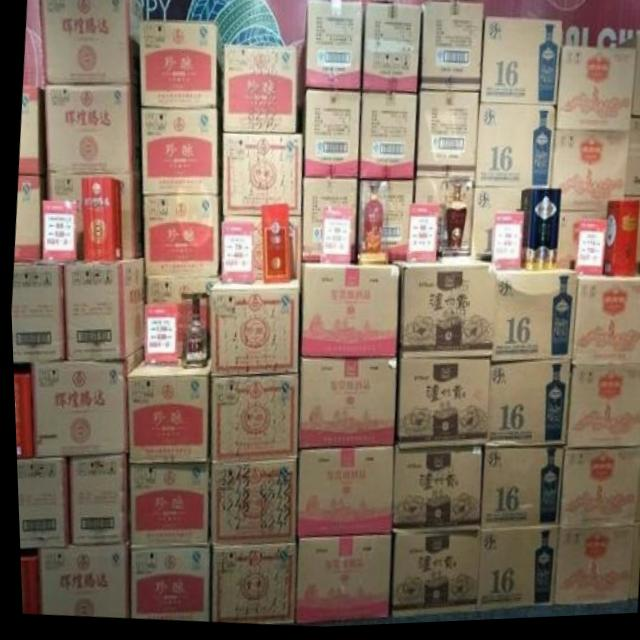box: (29, 348, 140, 458), (392, 262, 494, 362), (297, 264, 397, 361), (294, 359, 394, 452), (39, 0, 143, 88), (206, 280, 298, 378), (291, 450, 390, 540), (43, 84, 140, 175), (289, 537, 388, 626), (59, 257, 143, 360), (392, 361, 487, 450), (123, 365, 207, 464), (384, 529, 475, 619), (488, 274, 576, 366), (206, 376, 296, 464), (388, 446, 478, 533), (205, 460, 294, 546), (478, 20, 561, 111), (481, 365, 568, 451), (205, 544, 293, 626), (471, 105, 554, 191), (548, 529, 637, 609), (472, 530, 555, 615), (554, 50, 636, 136), (221, 46, 300, 135), (475, 451, 561, 531), (562, 367, 640, 455), (124, 464, 206, 547), (546, 135, 629, 217), (138, 23, 218, 108), (140, 108, 218, 195), (33, 545, 127, 617), (220, 135, 302, 217), (568, 278, 640, 369), (555, 453, 640, 530), (141, 194, 218, 278), (124, 548, 208, 623), (419, 3, 483, 95), (412, 94, 478, 182), (301, 1, 362, 96), (64, 453, 125, 546), (360, 4, 421, 95), (300, 91, 360, 180), (357, 96, 417, 182), (9, 266, 62, 362), (13, 457, 65, 549), (300, 180, 356, 263), (469, 192, 521, 262), (517, 193, 560, 274), (81, 177, 120, 261), (11, 175, 47, 262), (599, 206, 637, 281), (17, 85, 43, 177), (258, 207, 287, 286), (615, 40, 640, 122), (11, 375, 31, 458), (623, 120, 640, 201), (623, 200, 640, 280), (16, 549, 35, 614)
